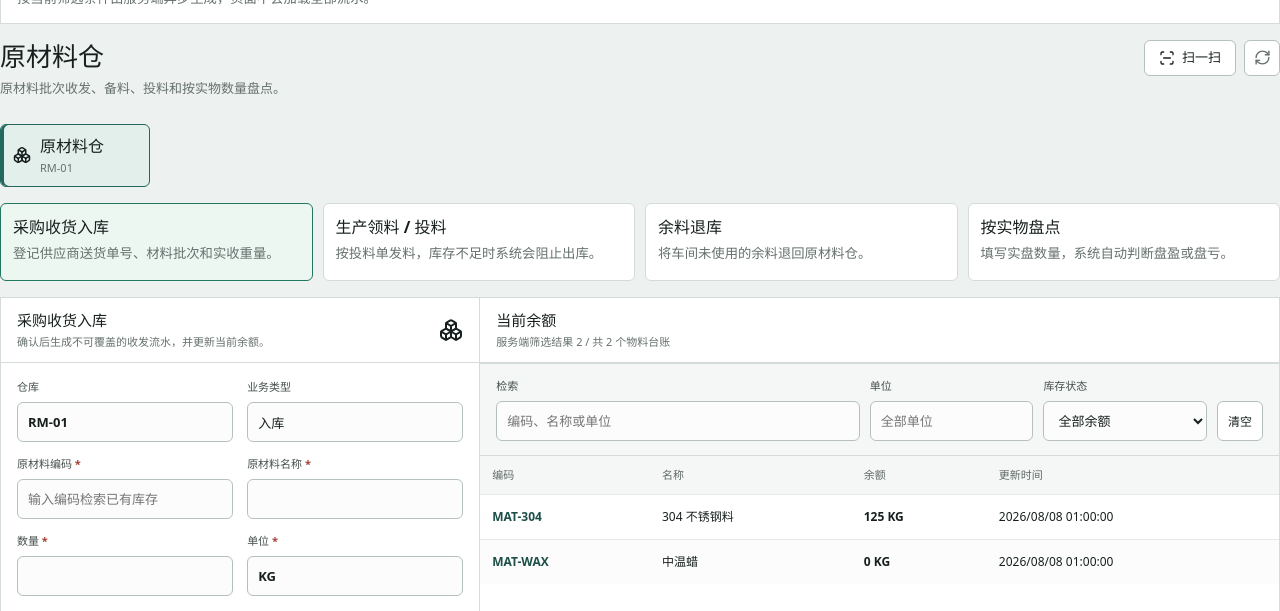
InventoryPage › filters balances and movements by multiple operational conditions without changing the ledger
Expected: the text "服务端筛选结果 2 / 共 2 个物料台账" is shown, [496,334,670,350]
Select "有库存" in the dropdown labelled "库存状态" at x=1125, y=421, box [1043,401,1207,441]
(page scrolled)
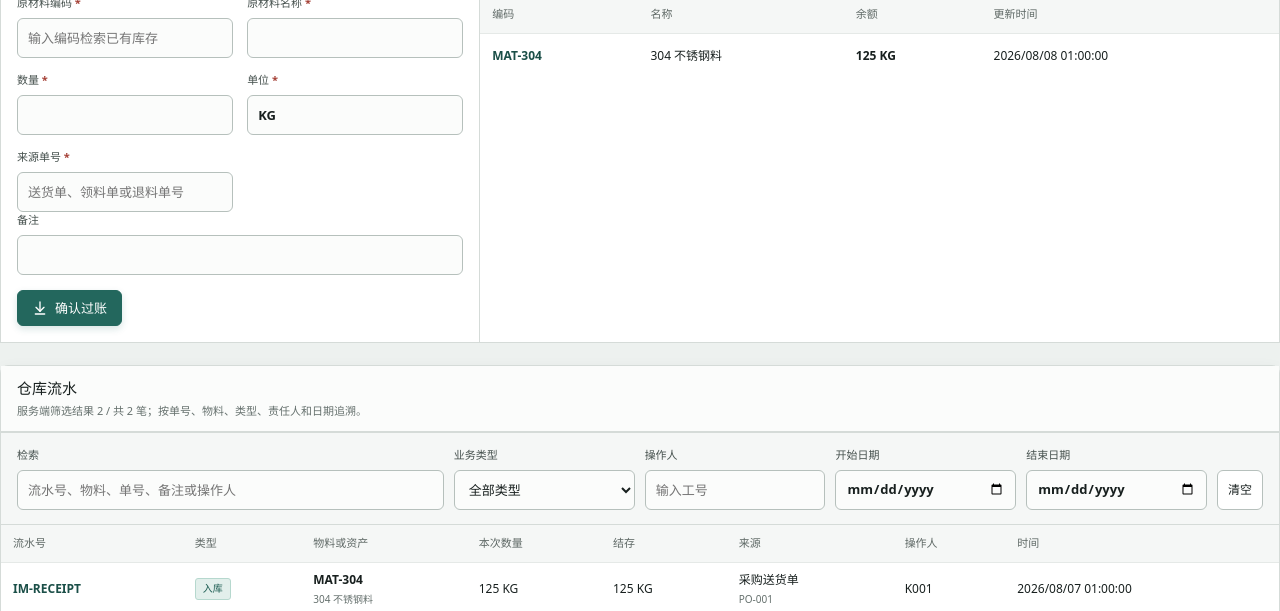
Now the text "中温蜡" is gone
Select "出库" in the dropdown labelled "业务类型" at x=544, y=490, box [454,470,635,510]
(page scrolled)
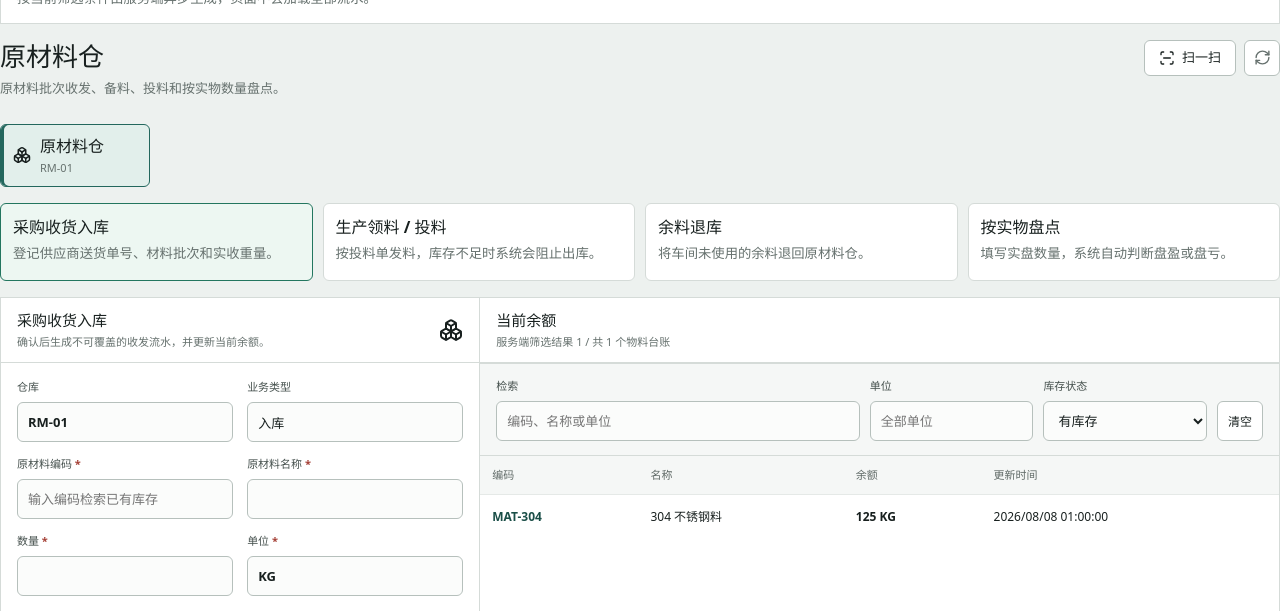
Click the button "清空" at x=1240, y=421, box [1217,401,1263,441]
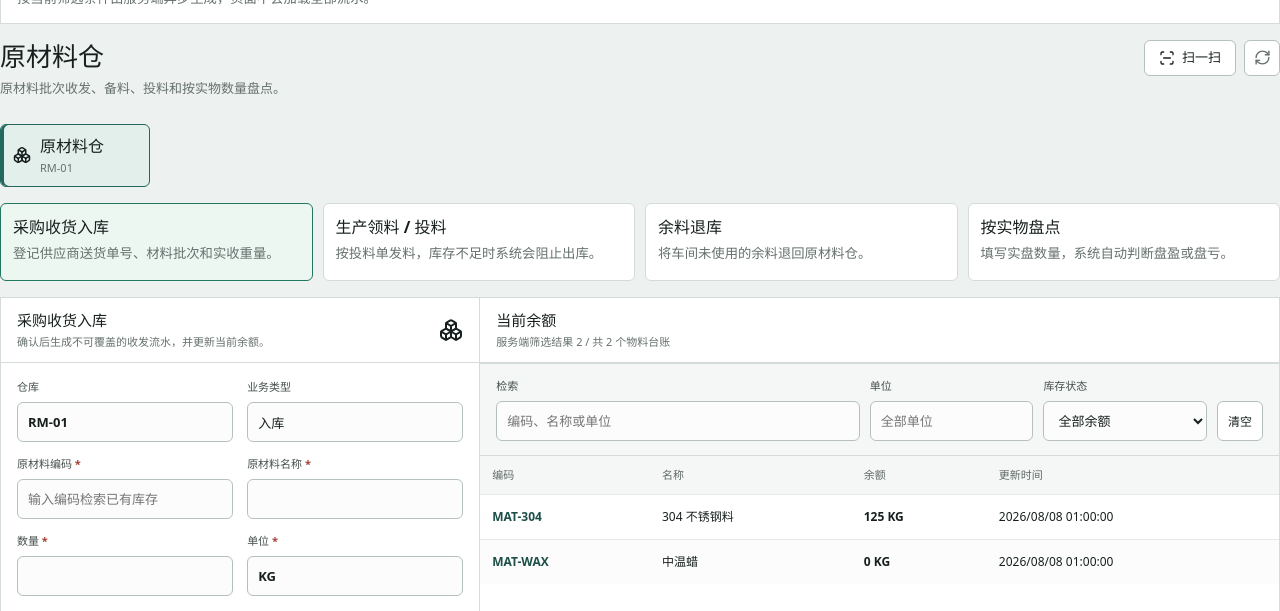
Now the text "服务端筛选结果 2 / 共 2 个物料台账" is shown, box [496,334,670,350]
